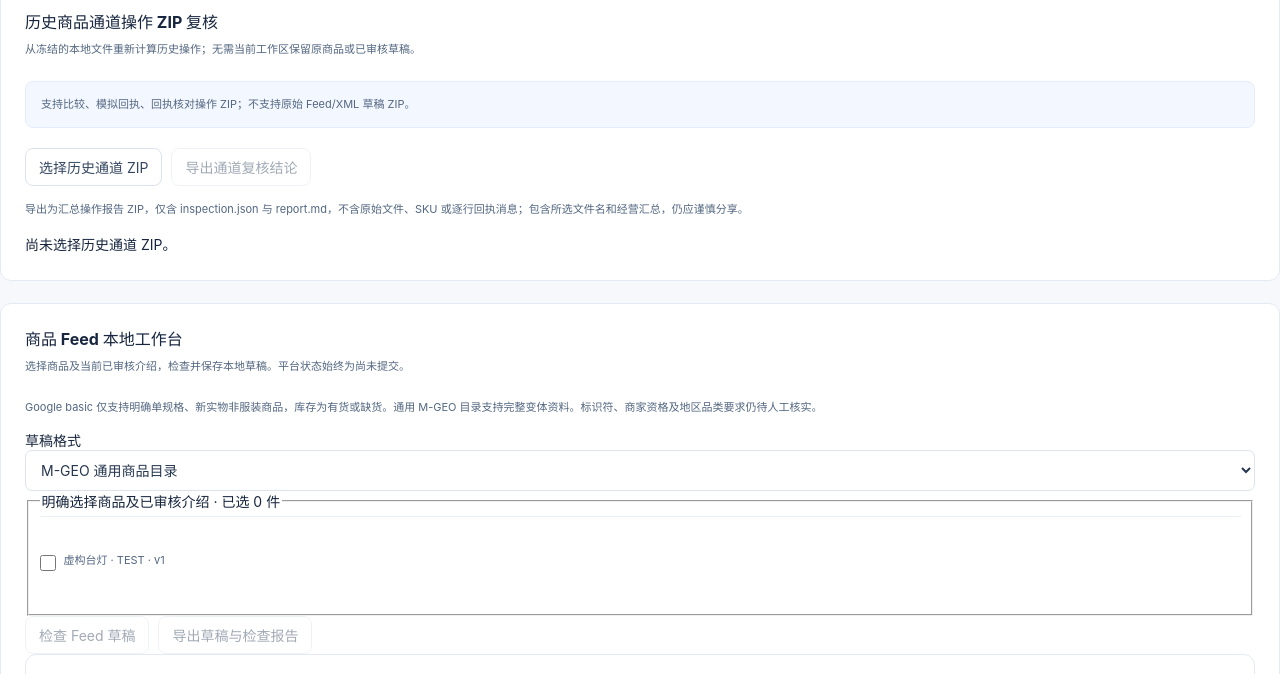
Test: exports blocked reports with the same explicit request and reports cancel
Click the checkbox labelled "虚构台灯 · TEST · v1": coordinates (48, 563) [40,555,56,571]
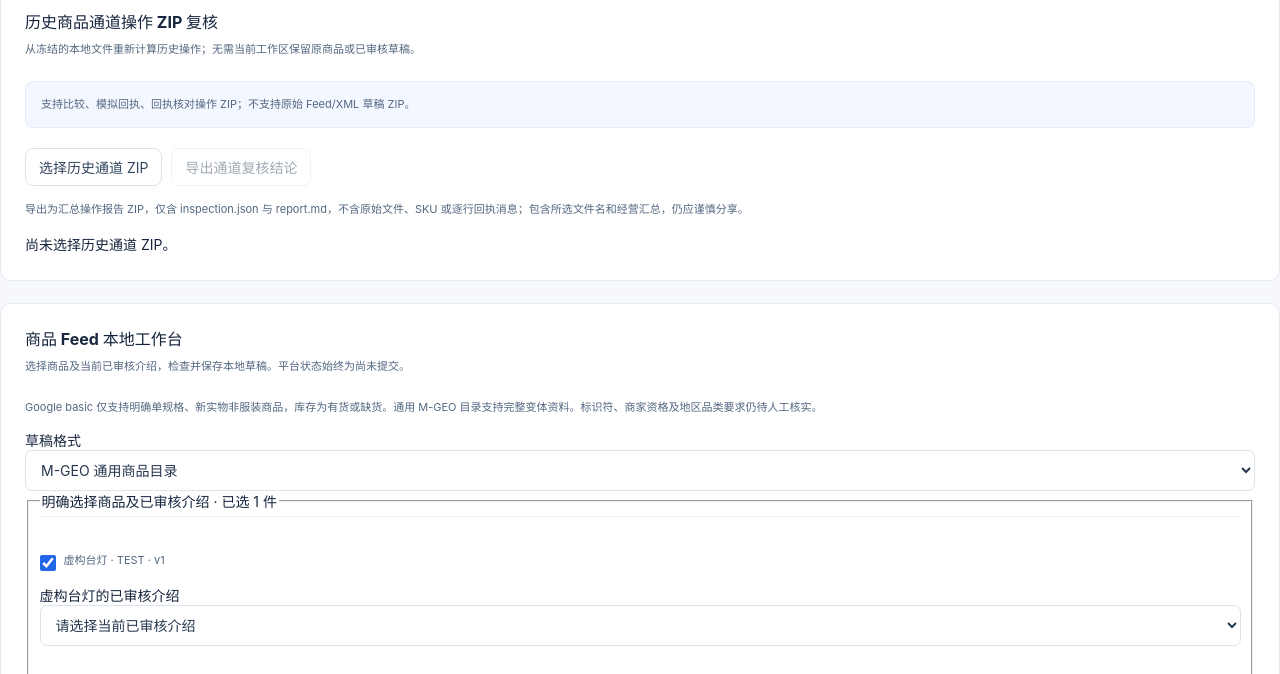
Select "已审核介绍 · v2 · 本地整理" in the dropdown labelled "虚构台灯的已审核介绍": coordinates (640, 625) [40,605,1240,646]
(page scrolled)
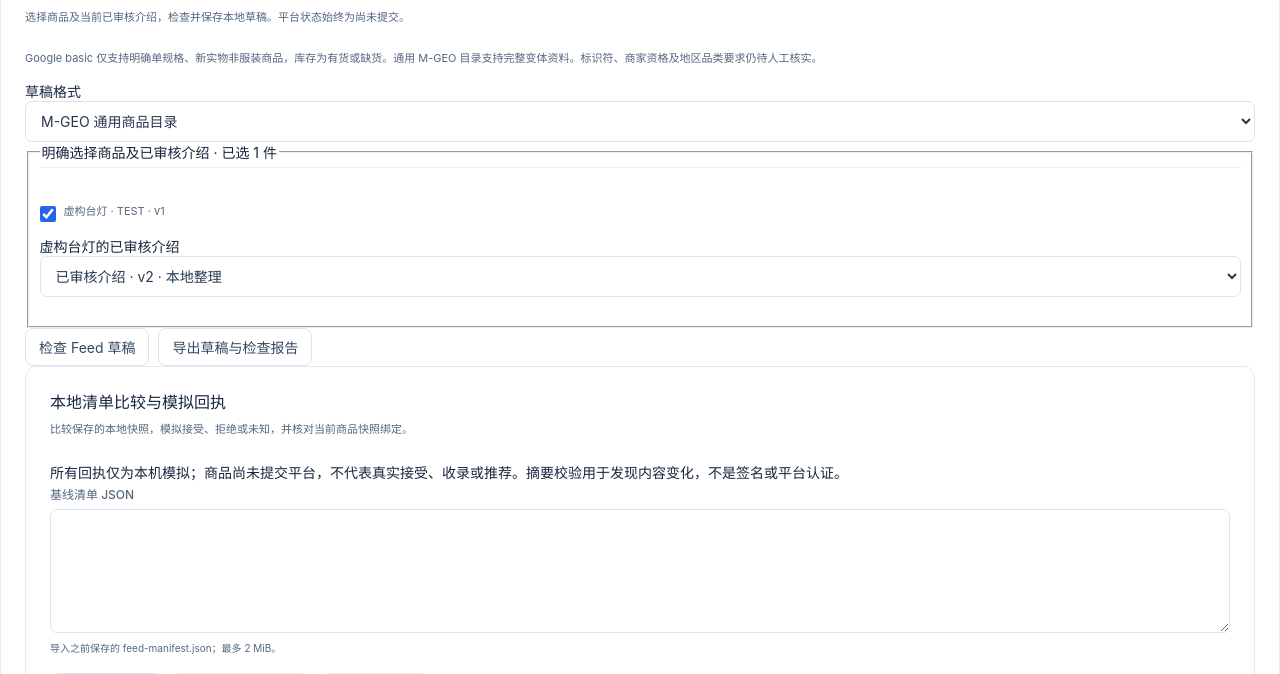
Click the button "检查 Feed 草稿": coordinates (87, 347) [25,328,150,366]
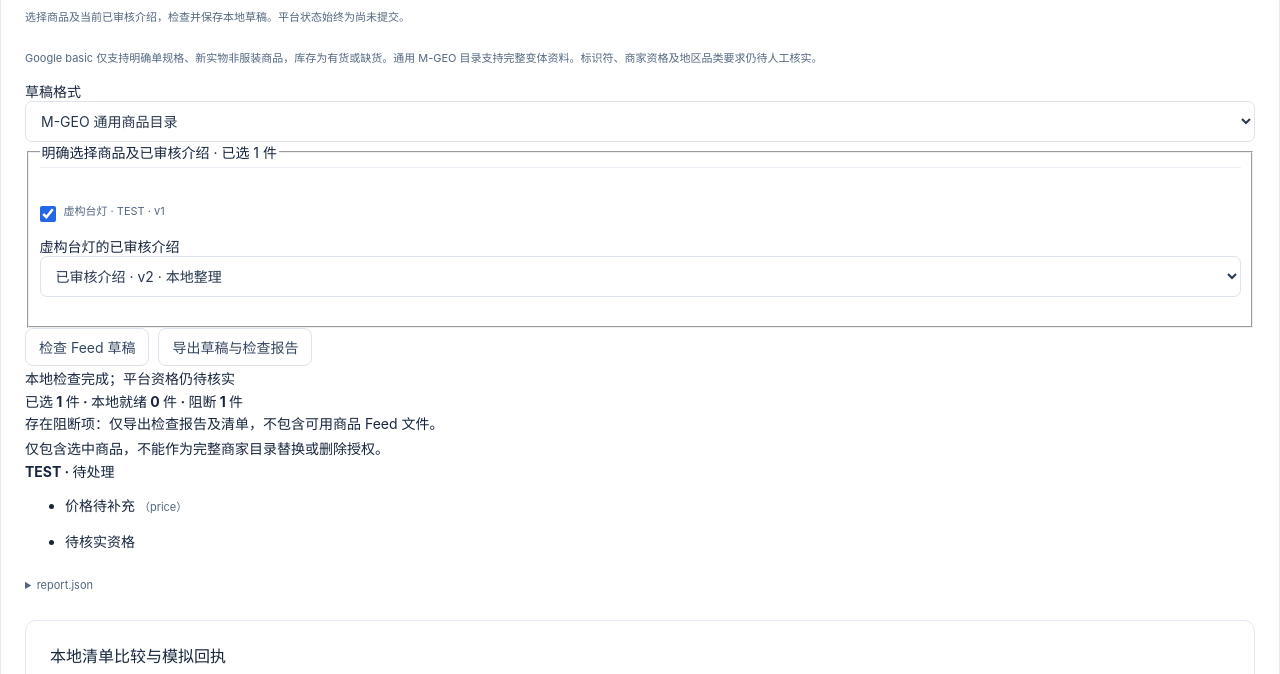
Now the text "价格待补充" is shown, box [65,497,135,514]
Now the text "存在阻断项：仅导出检查报告及清单，不包含可用商品 Feed 文件。" is shown, box [25,415,444,432]
Click the button "导出草稿与检查报告": coordinates (236, 347) [158,328,312,366]
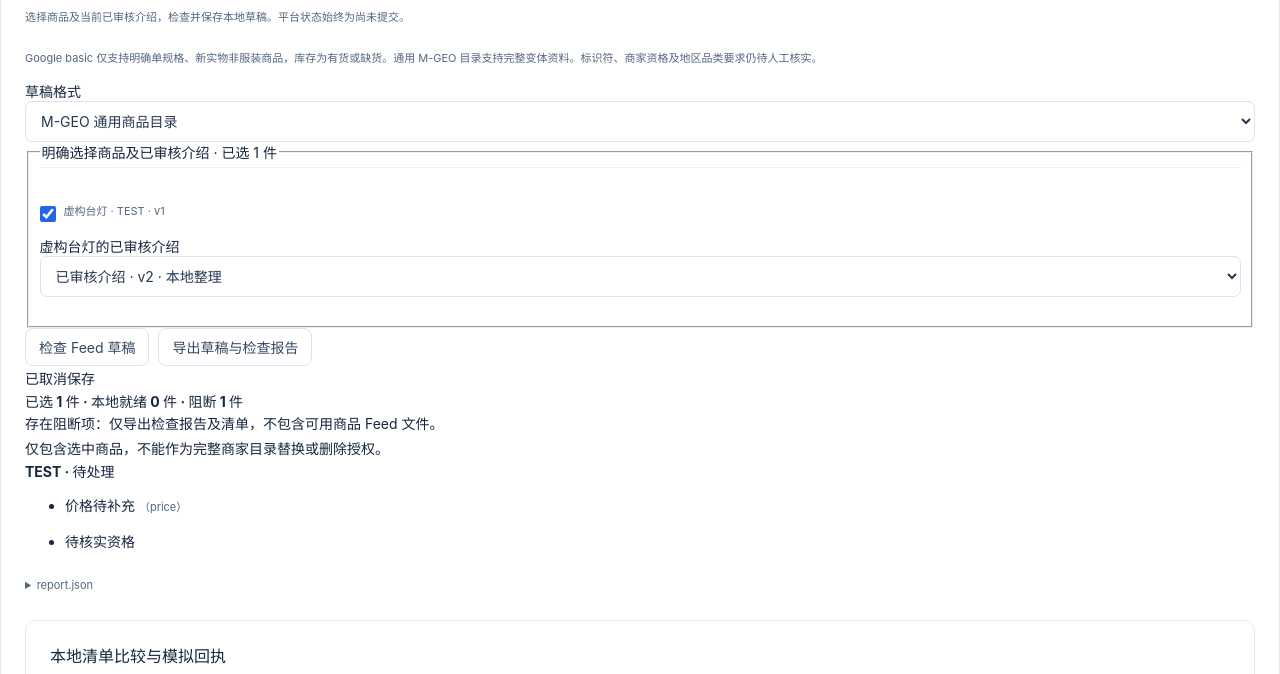
Now the text "已取消保存" is shown, box [25,370,95,387]
